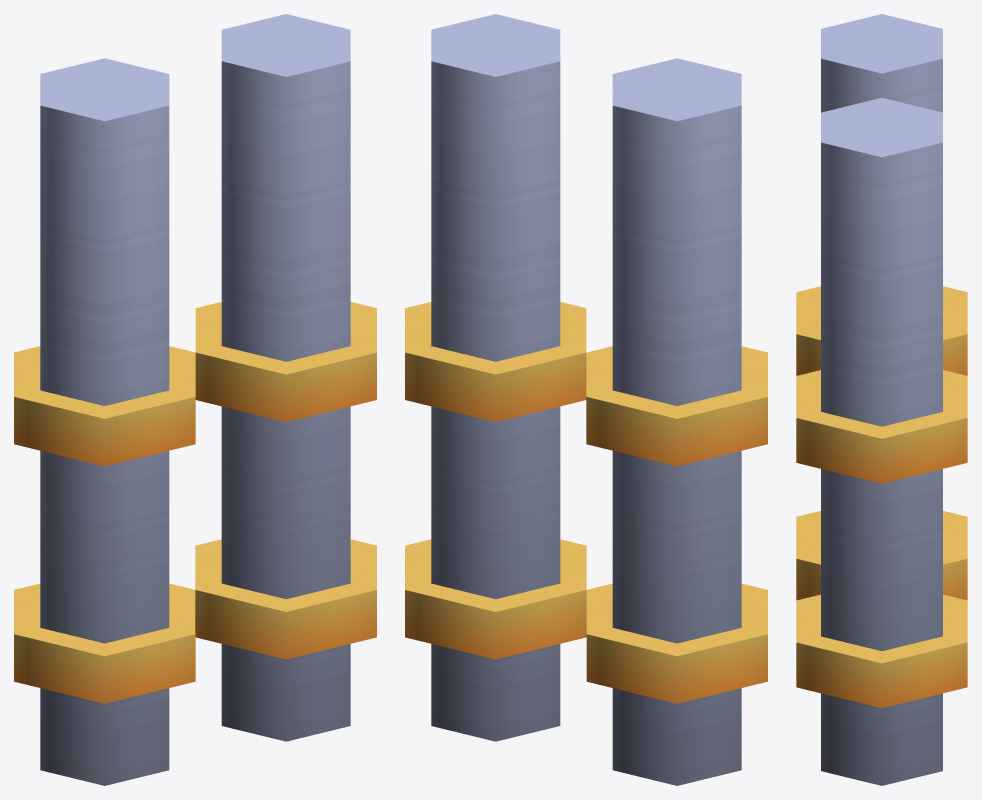
File: kenney-space-station_wall-detail.glb
The picture shows the model from 3 angles, left to right: view 1: azimuth 30°, elevation 25°; view 2: azimuth 150°, elevation 25°; view 3: azimuth 270°, elevation 25°; orthographic projection. The views are drawn at different scales.
Visible parts, largest first — view 1: wall-detail, Group (×2); view 2: wall-detail, Group (×2); view 3: wall-detail, Group (×2).
Boxes of the visible parts, x1,y1,x2,y2 form: wall-detail: [14, 14, 376, 785]; Group (×2): [14, 302, 376, 466]; wall-detail: [405, 14, 767, 785]; Group (×2): [405, 302, 767, 466]; wall-detail: [796, 14, 967, 785]; Group (×2): [796, 286, 967, 483].
Bounding box in the file's own units: 0.4 × 0.7 × 0.1732.
Materials: 1 (1 with a texture image).
